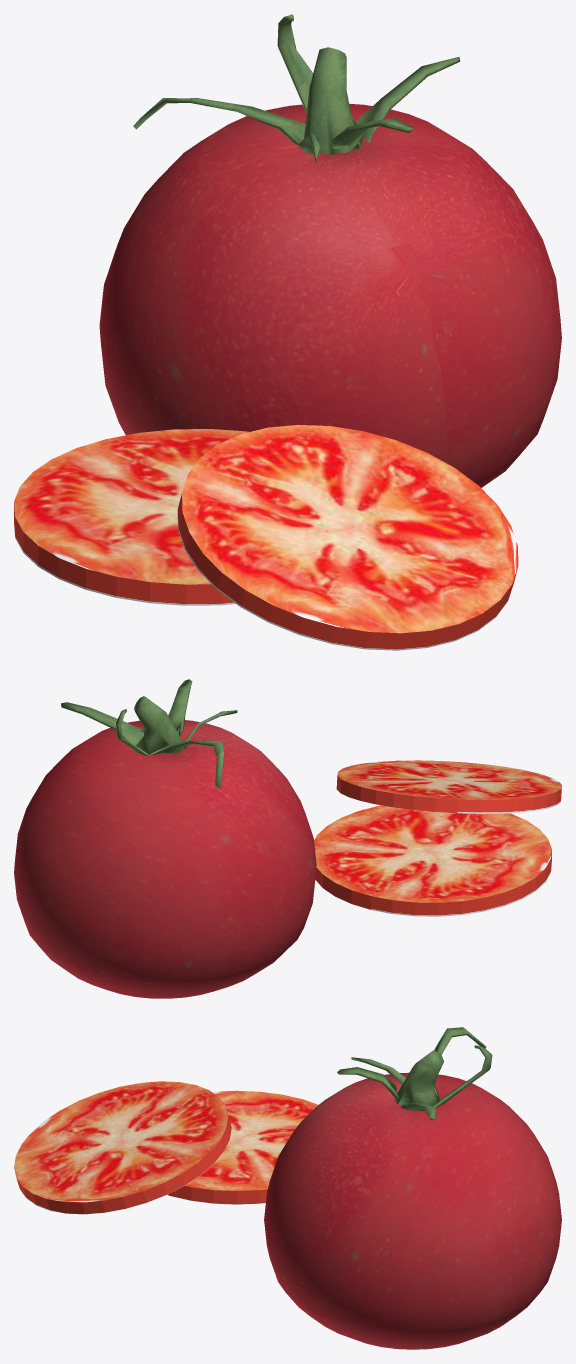
The model's file is tomatoo.glb.
3 renders of one model, top to bottom at view 1: azimuth 30°, elevation 25°; view 2: azimuth 150°, elevation 25°; view 3: azimuth 270°, elevation 25°, orthographic. The views are drawn at different scales.
Parts seen in each view (by area): view 1: Tomato, Cylinder.001, Cylinder; view 2: Tomato, Cylinder, Cylinder.001; view 3: Tomato, Cylinder.001, Cylinder.
Boxes of the visible parts, x1,y1,x2,y2 form: Tomato: (99, 14, 561, 487); Cylinder.001: (177, 424, 518, 650); Cylinder: (14, 429, 248, 605); Tomato: (14, 679, 316, 998); Cylinder: (314, 805, 551, 916); Cylinder.001: (336, 760, 561, 813); Tomato: (264, 1027, 561, 1349); Cylinder.001: (14, 1081, 231, 1214); Cylinder: (167, 1090, 318, 1204).
Bounding box in the file's own units: 1.39 × 0.9482 × 1.63.
Materials: 4 (4 with a texture image).
